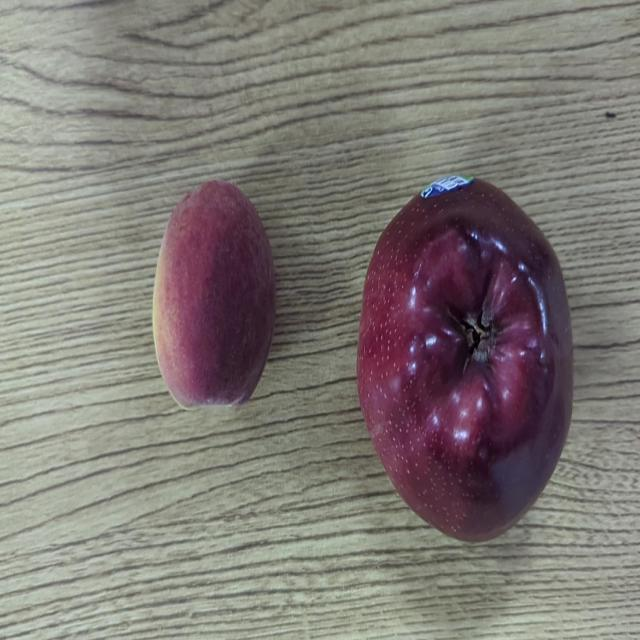Apel Merah: (356, 168, 579, 546)
Persik: (150, 174, 282, 416)
